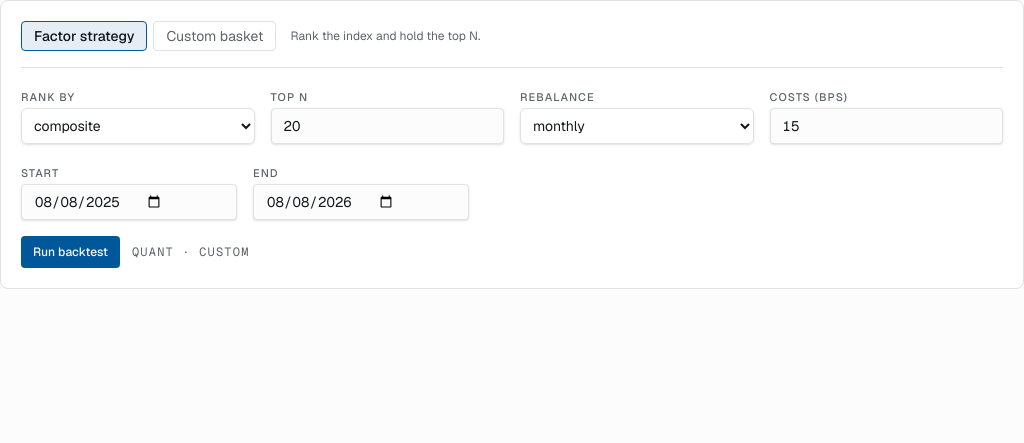
Test: BacktestSetupForm custom basket › refuses to submit an empty basket
This screenshot has width=1024, height=443.
Click the radio button labelled "Custom basket". click: [215, 36]
box: x1=153 y1=21 x2=276 y2=51
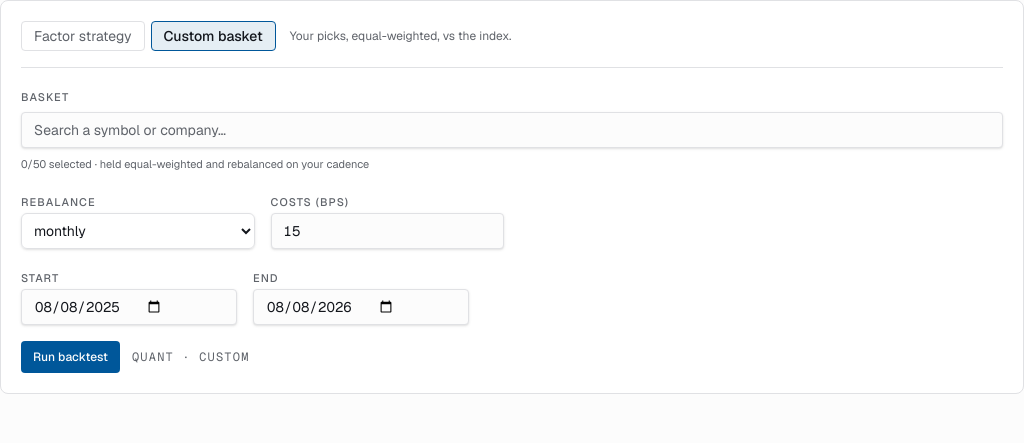
Click the button "Run backtest". click: [70, 356]
box: x1=21 y1=340 x2=120 y2=372
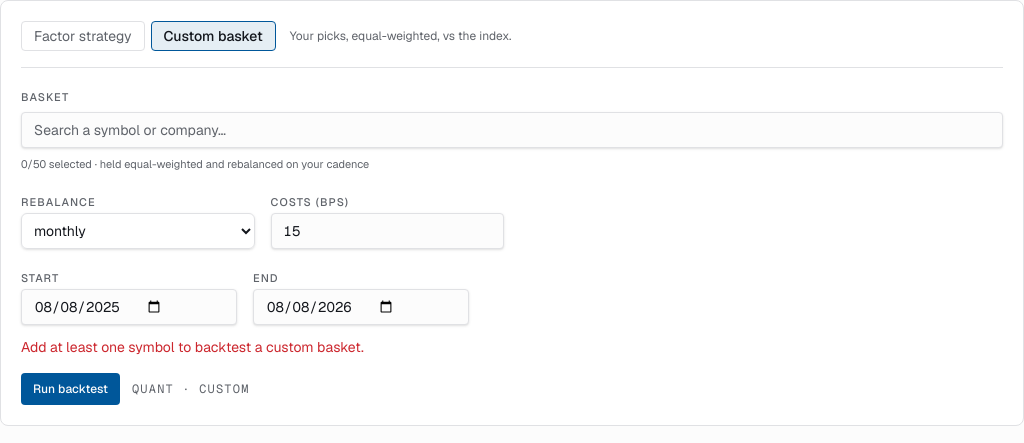
Expected: the text "Add at least one symbol to backtest a custom basket." is shown, x1=21 y1=338 x2=364 y2=356
